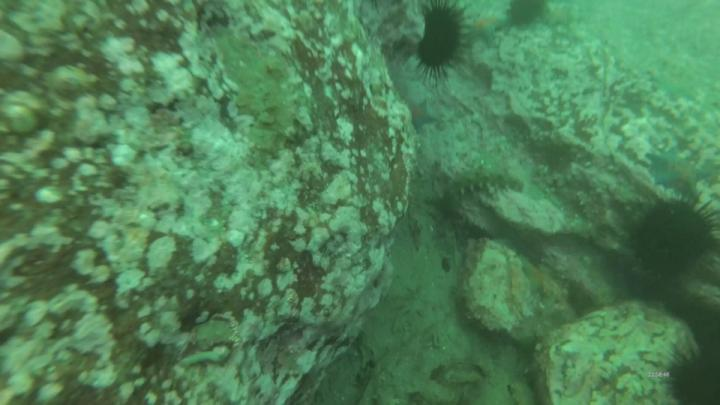echinus: (641, 202, 712, 282), (672, 344, 720, 405), (421, 5, 462, 69), (511, 3, 545, 24)
holothurian: (450, 167, 524, 197)
starfish: (645, 151, 708, 194), (467, 15, 507, 46), (409, 97, 441, 131)
